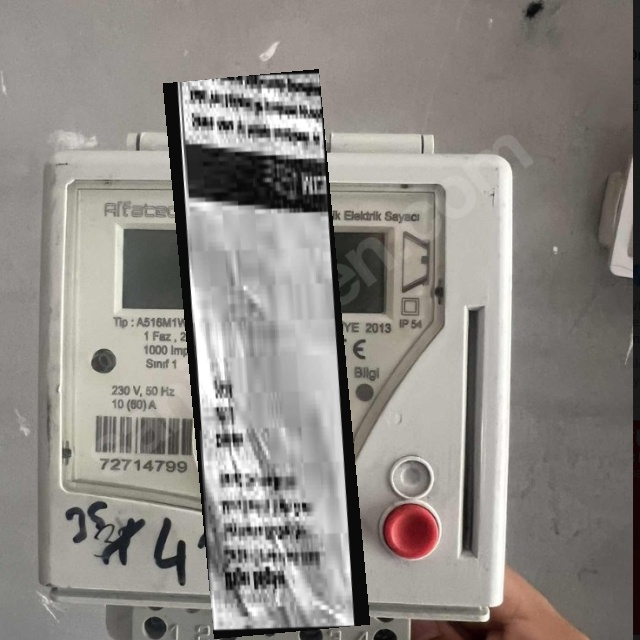electricity-bill: (163, 69, 369, 639)
